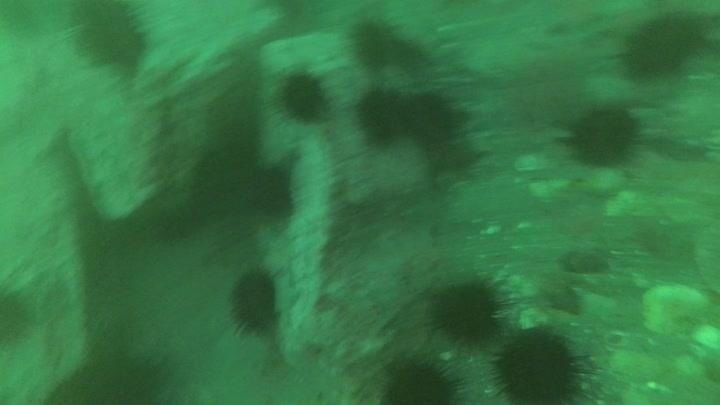echinus: (489, 324, 591, 404), (618, 10, 710, 82), (68, 2, 152, 72), (427, 275, 508, 346), (563, 102, 643, 169), (378, 353, 464, 404), (226, 265, 282, 335), (238, 162, 298, 222), (400, 90, 462, 147), (354, 85, 410, 145), (277, 69, 330, 125), (348, 17, 400, 70), (1, 283, 34, 348)
